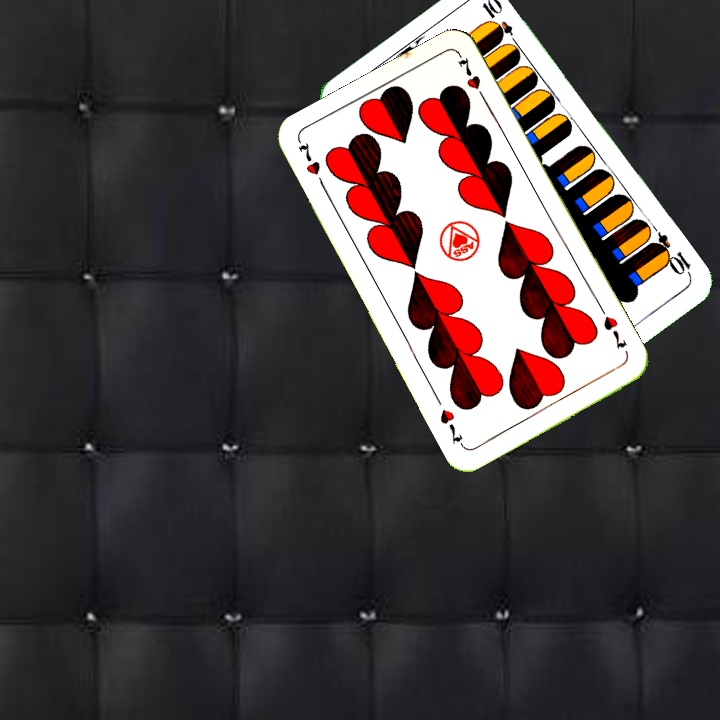E10: (647, 229, 694, 280)
H7: (293, 137, 329, 193), (599, 312, 630, 352)
